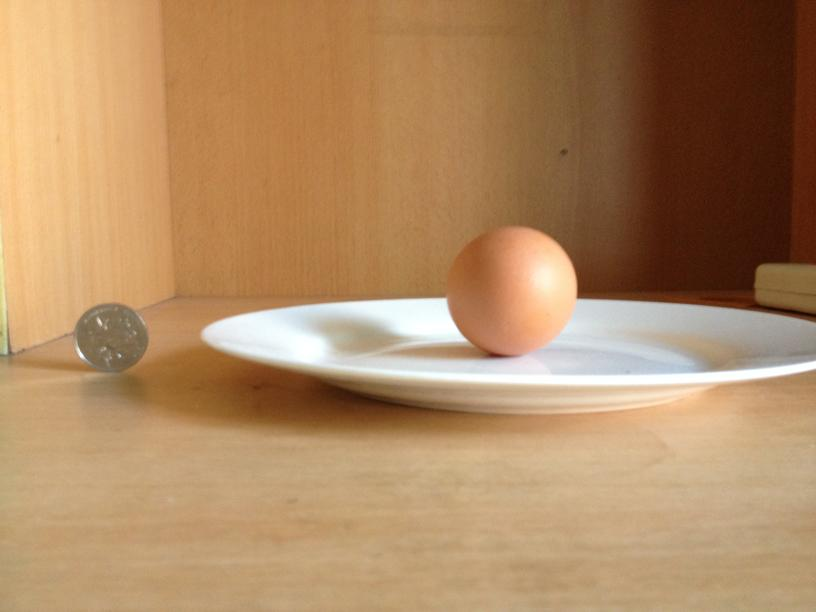coin: (75, 302, 148, 373)
egg: (441, 225, 577, 353)
